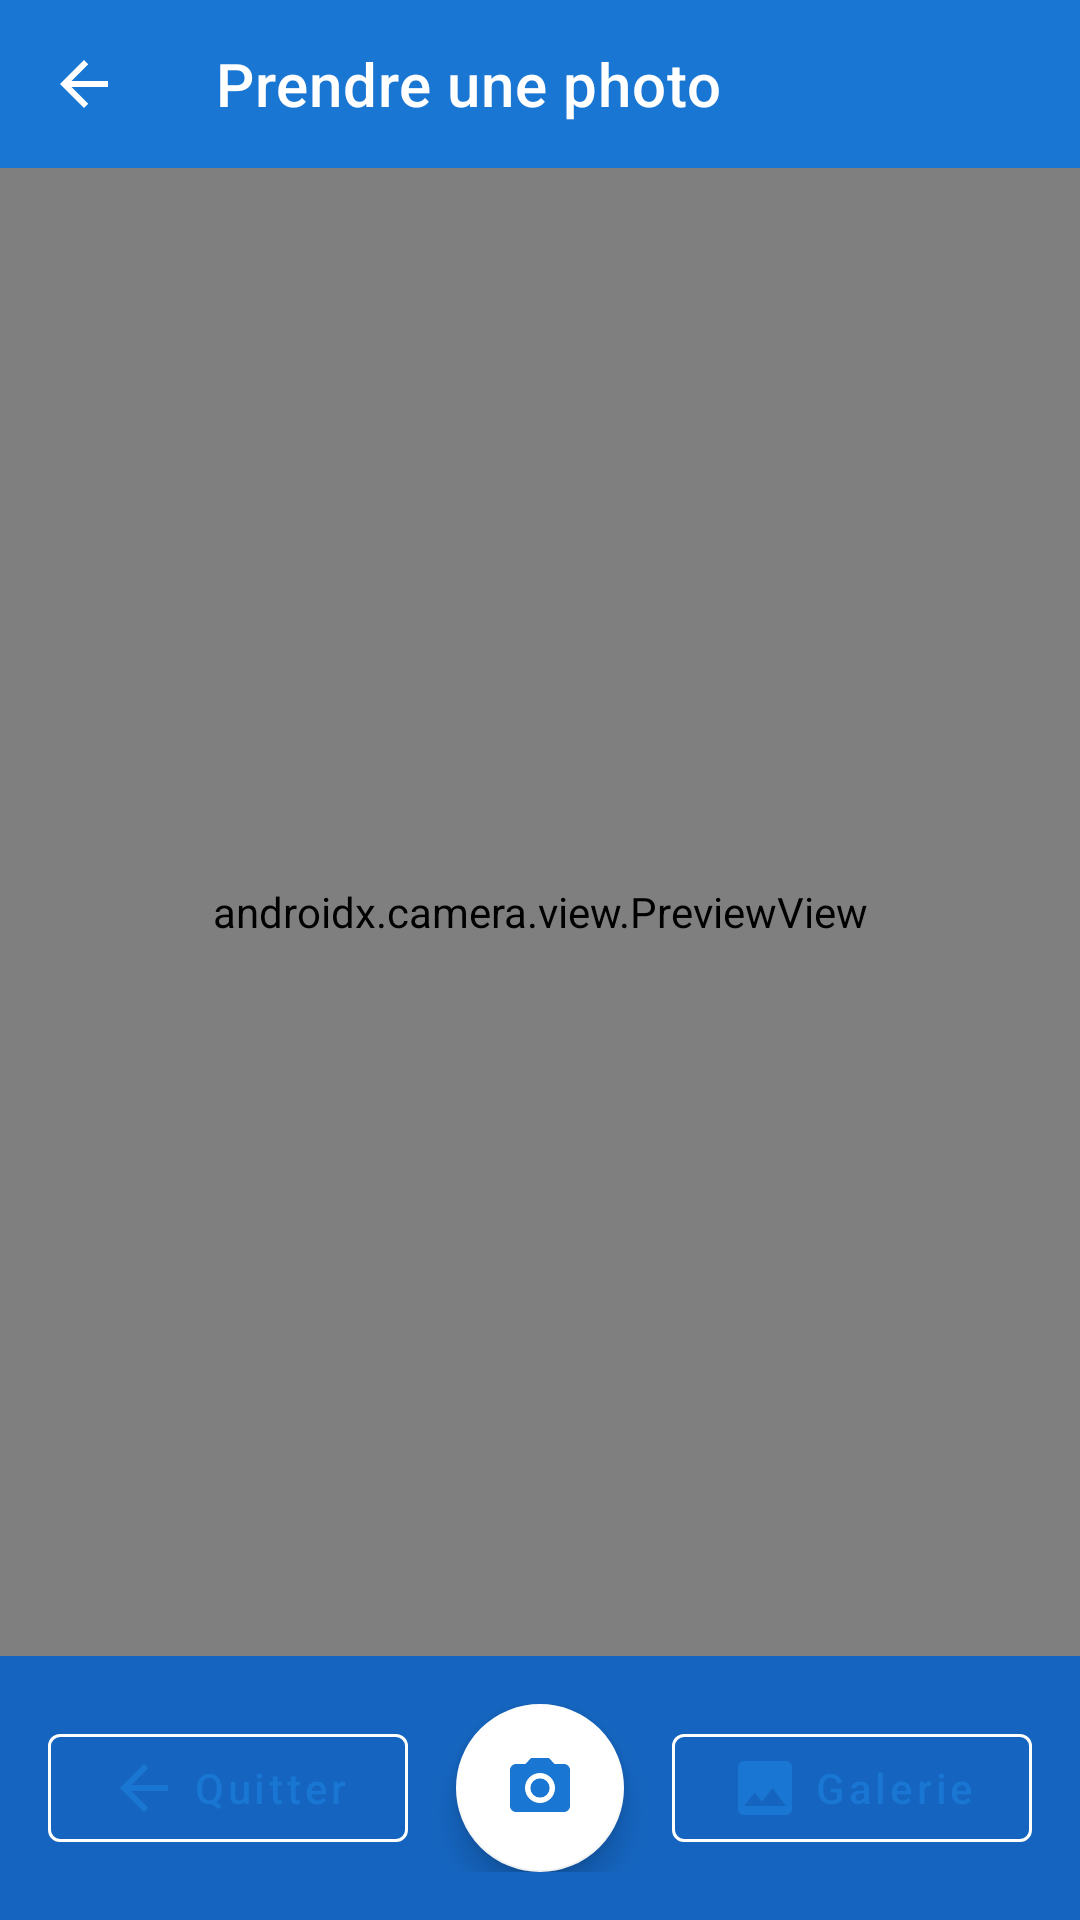

Named icons in this screenshot (1080x1920) and their centers, (x=x, y=y):
Prendre photo: (x=540, y=1788)
